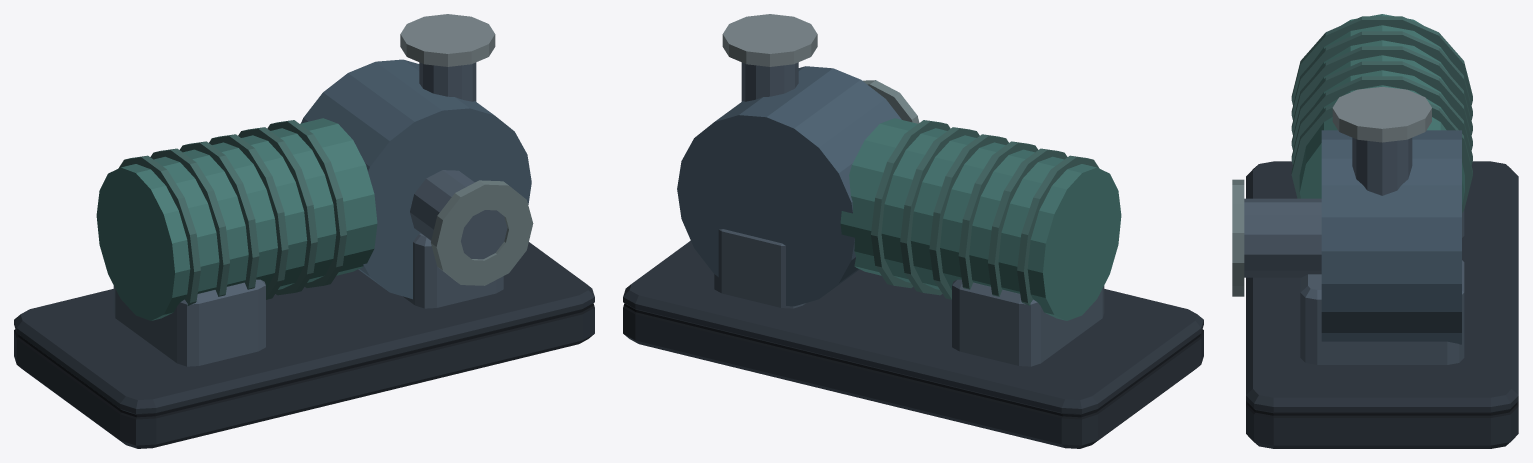
Rendered from E-01_pump.glb.
The picture shows the model from 3 angles, left to right: view 1: azimuth 30°, elevation 25°; view 2: azimuth 150°, elevation 25°; view 3: azimuth 270°, elevation 25°; orthographic projection. The views are drawn at different scales.
Parts seen in each view (by area): view 1: E-01_pump; view 2: E-01_pump; view 3: E-01_pump.
Part boxes in pixels (<box>): E-01_pump: <box>14,14,594,448</box>; E-01_pump: <box>623,14,1203,448</box>; E-01_pump: <box>1232,14,1518,448</box>.
Bounding box in the file's own units: 0.84 × 0.4795 × 0.42.
